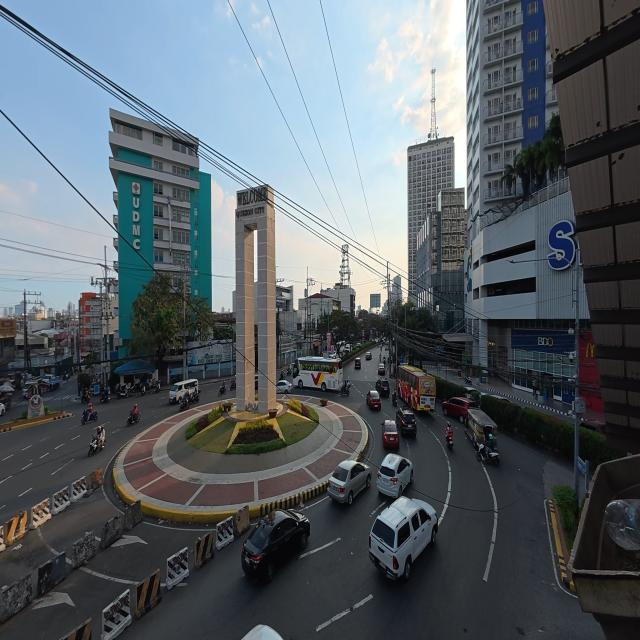car: (367, 495, 437, 583), (241, 508, 312, 588), (327, 459, 373, 508), (376, 452, 414, 498), (382, 420, 402, 450), (366, 390, 381, 410), (277, 379, 293, 393)
vans: (168, 379, 201, 406)
